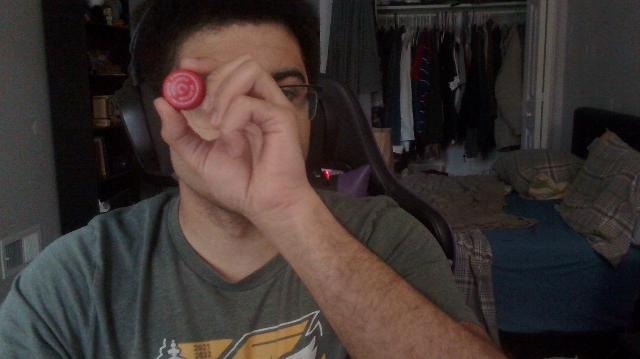cap: (163, 70, 205, 110)
